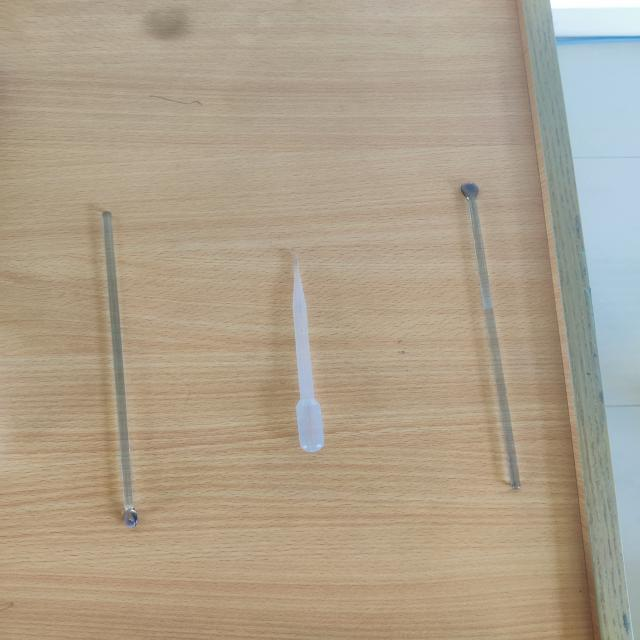Glass_Rod: (423, 136, 543, 513), (84, 165, 193, 547)
Pipette: (248, 227, 357, 472)
